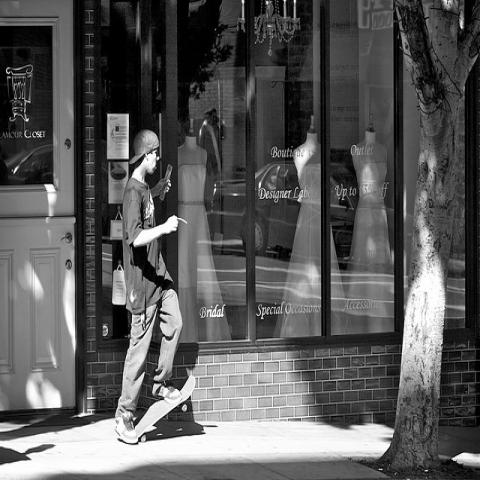car: (211, 162, 356, 253), (5, 139, 53, 185)
